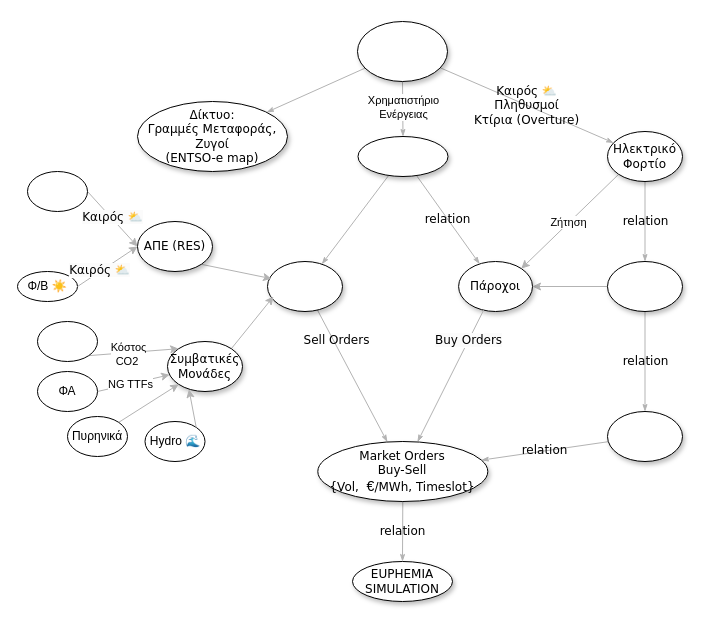
Some shapes in this 706 by 626 pixel diagram are drawn without their labels. Here are the shapes that lost their labels. From the top down, the centre of each, then its label:
At (x=403, y=52): "Συλλογή Δεδομένων".
At (x=403, y=158): "Market Participants".
At (x=57, y=191): "Αιολικά Πάρκα".
At (x=305, y=287): "Παραγωγοί".
At (x=67, y=341): "Λιγνητικά".
At (x=645, y=437): "Node 9".
